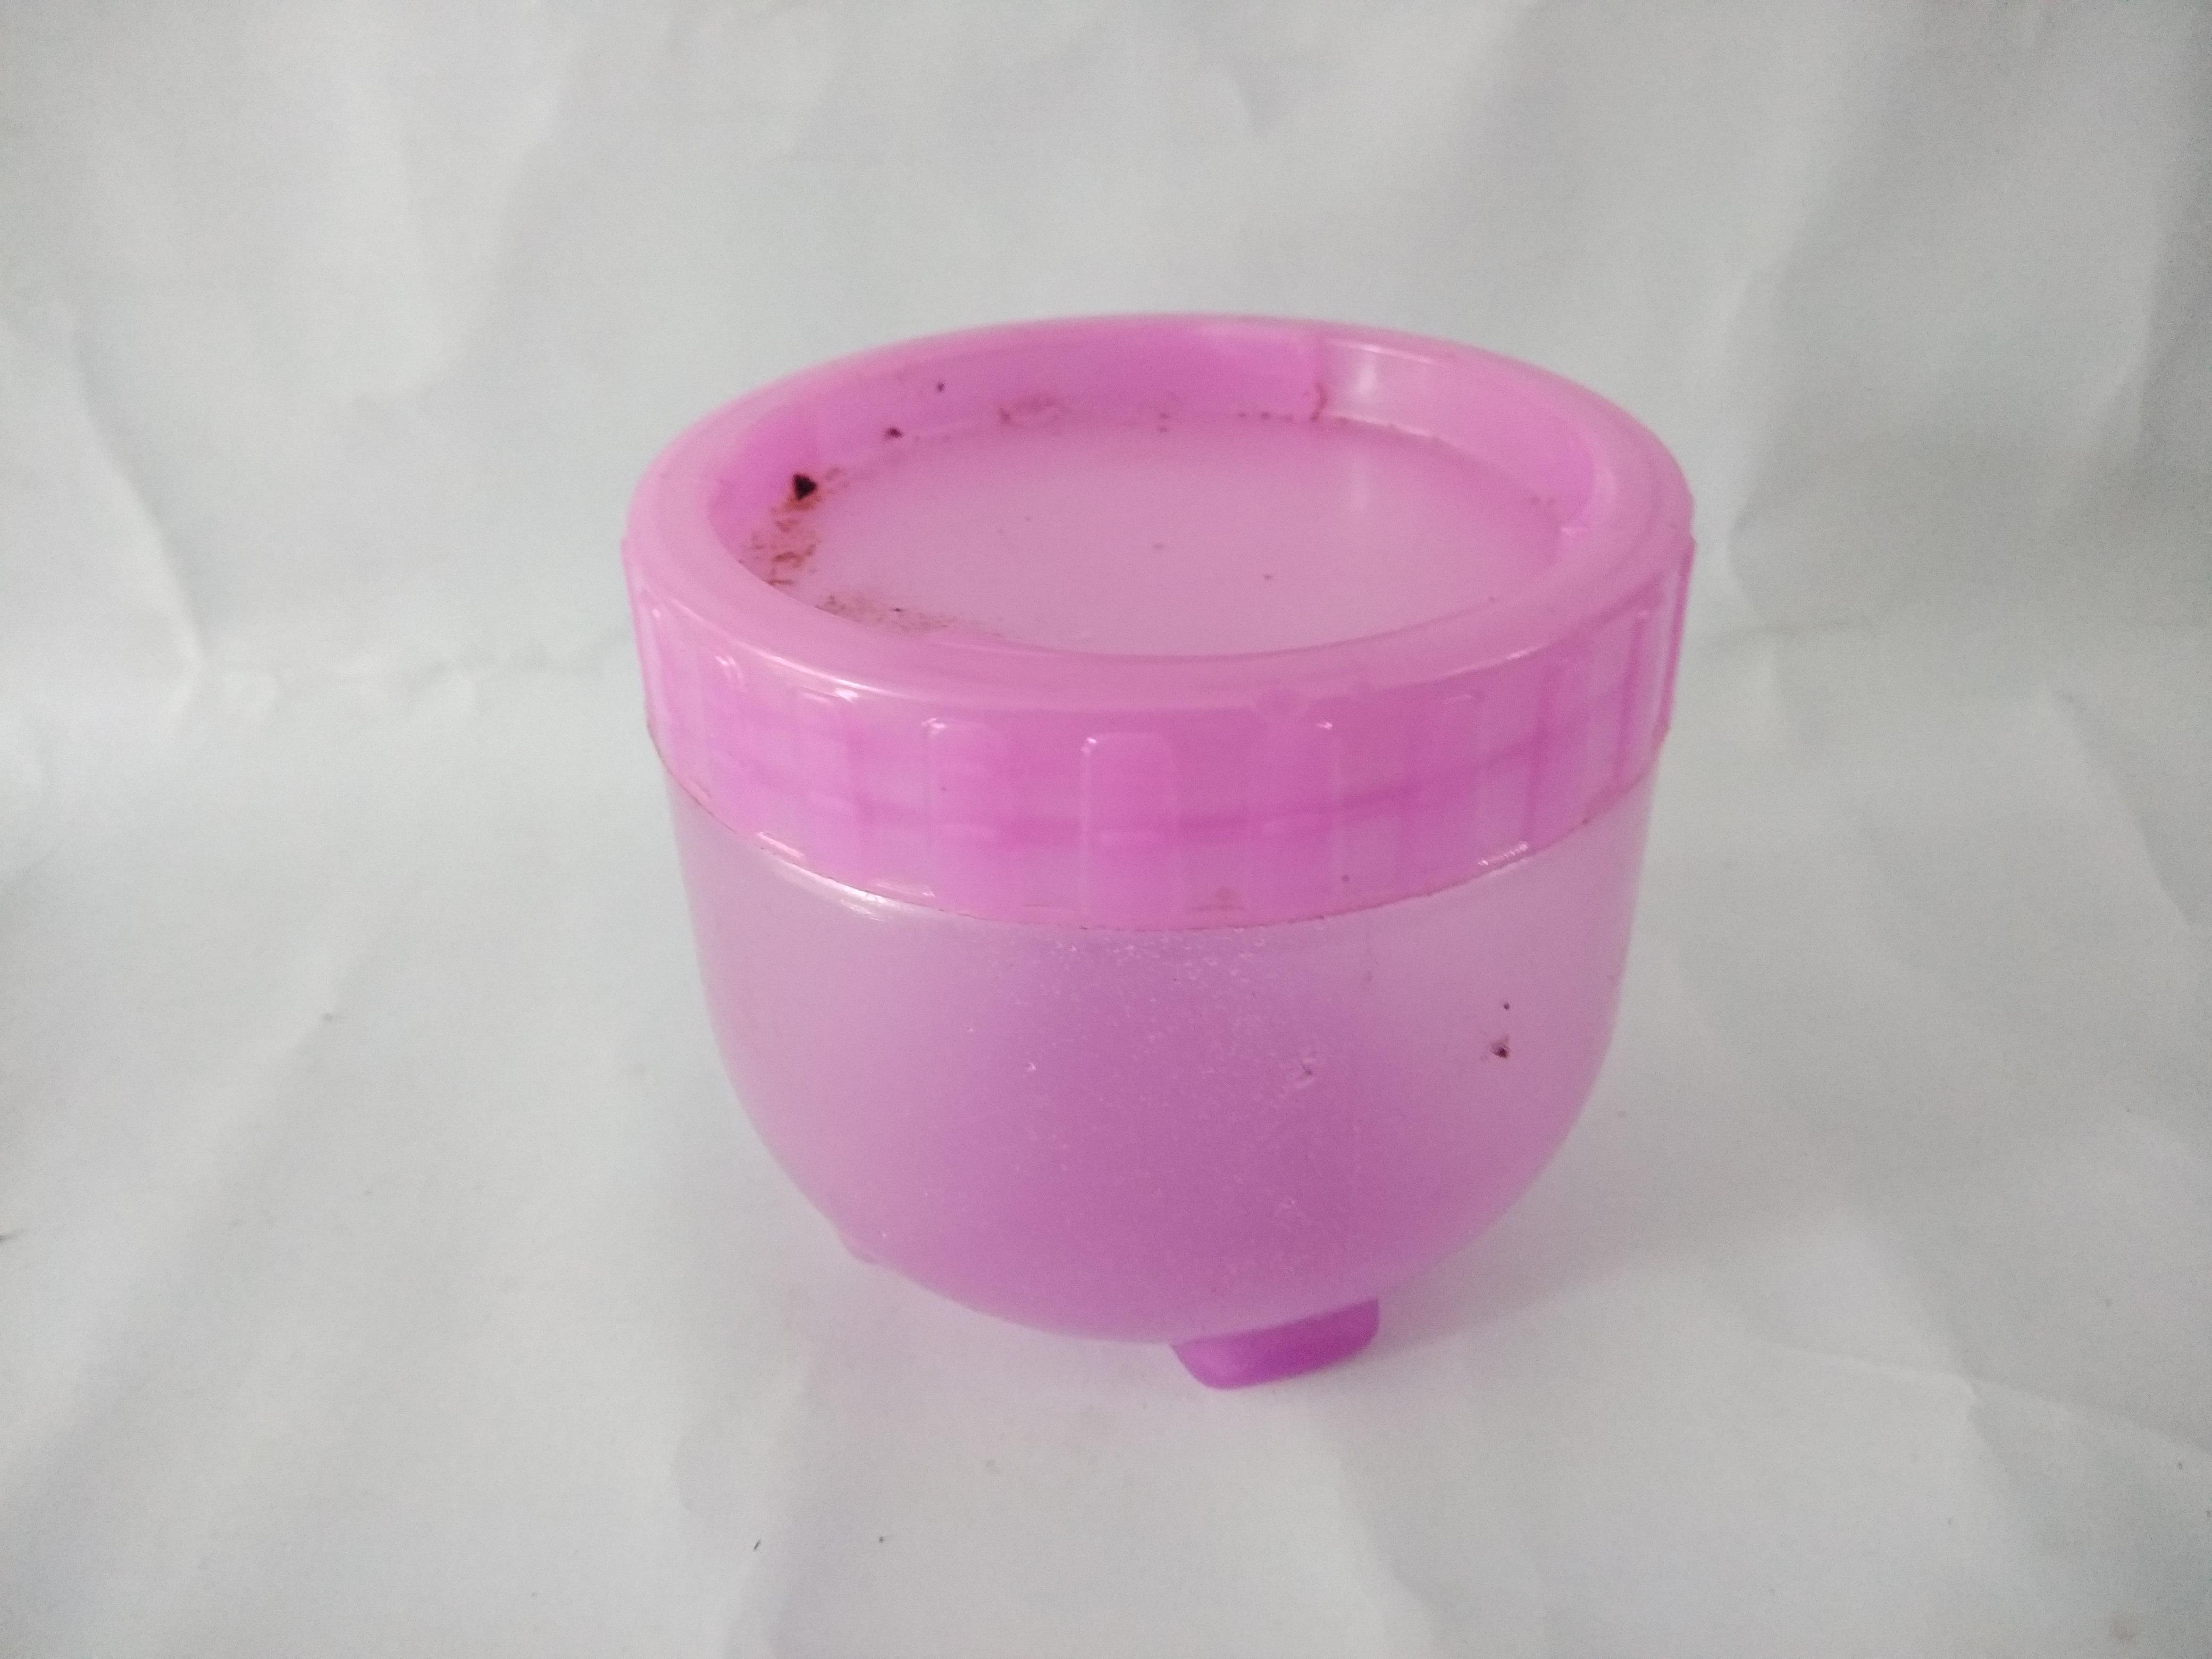PP: (374, 98, 2050, 1635)
